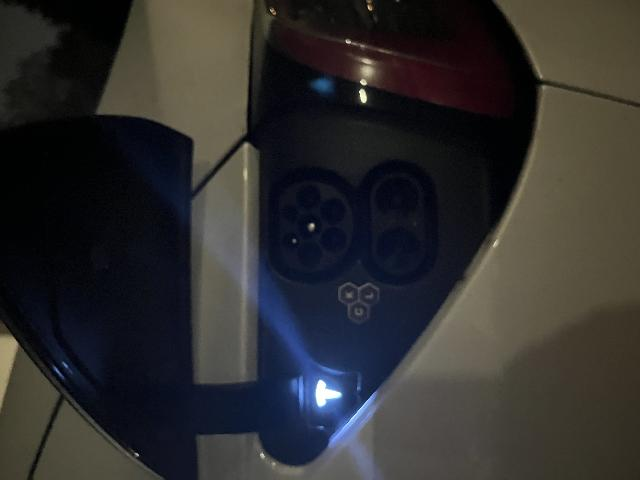inlet: (208, 279, 300, 353)
inlet-above-left: (229, 282, 249, 299)
inlet-above-right: (257, 281, 275, 298)
inlet-below-left: (226, 321, 253, 346)
inlet-below-right: (256, 319, 280, 344)
inlet-circle: (241, 297, 265, 321)
inlet-circle-left: (213, 296, 238, 323)
inlet-circle-right: (270, 296, 294, 321)
inlet-minus: (261, 375, 303, 418)
inlet-plus: (212, 376, 253, 420)
